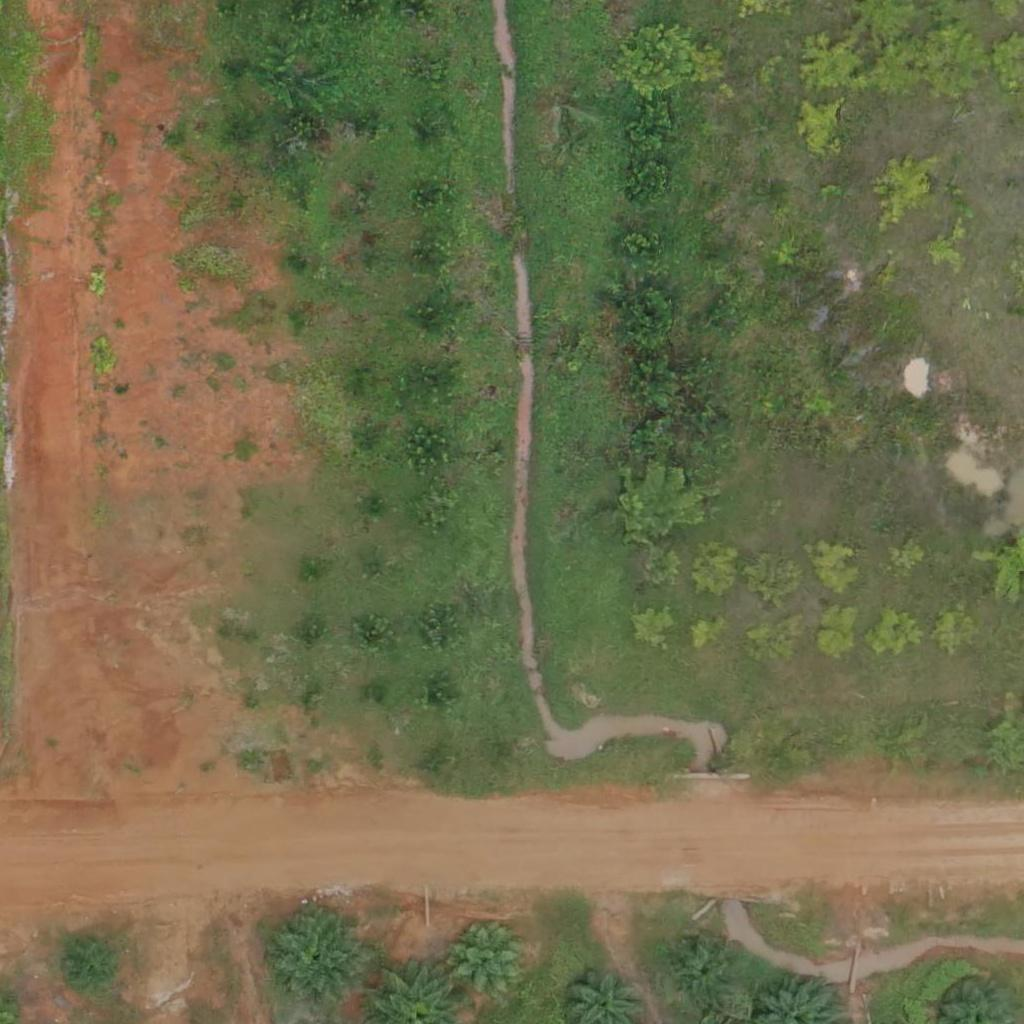Kelapa_Sawit: (268, 909, 368, 1010), (451, 918, 538, 1006), (51, 934, 114, 997), (676, 942, 738, 1005)
